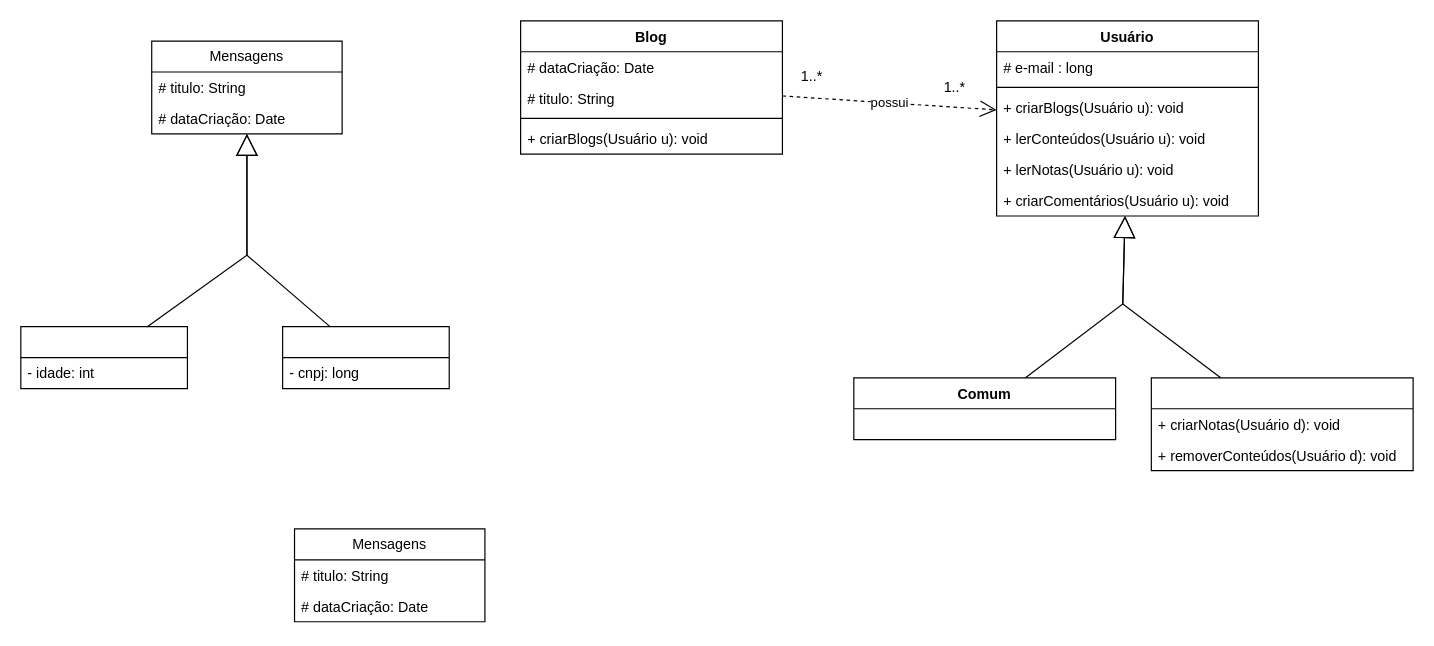
Image size: 1434x646. Some labels were removed from this diagram. Here are the shapes that lost their labels. From the top down, the box of each, then its label:
(20, 325, 187, 389): Notas
(281, 325, 449, 389): Comentários
(1150, 377, 1413, 471): Dono
